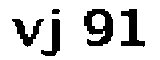1: (116, 7, 148, 50)
9: (81, 7, 116, 49)
j: (40, 5, 68, 59)
v: (9, 16, 43, 47)
